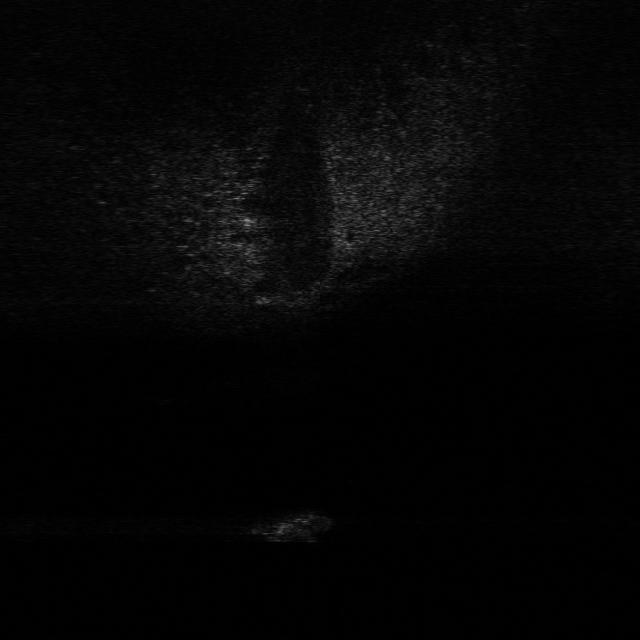circle cage: (251, 504, 338, 546)
